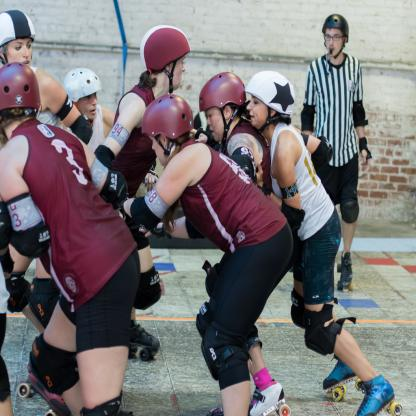Helmet: (140, 91, 198, 162), (201, 72, 245, 160), (245, 72, 293, 147), (139, 25, 189, 88), (0, 64, 41, 111), (0, 6, 35, 51), (64, 69, 99, 107)
